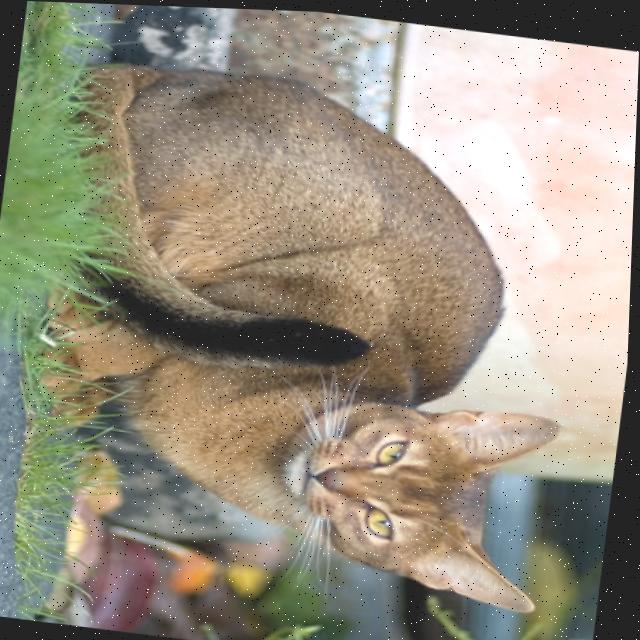Abyssinian: (4, 44, 606, 616)
